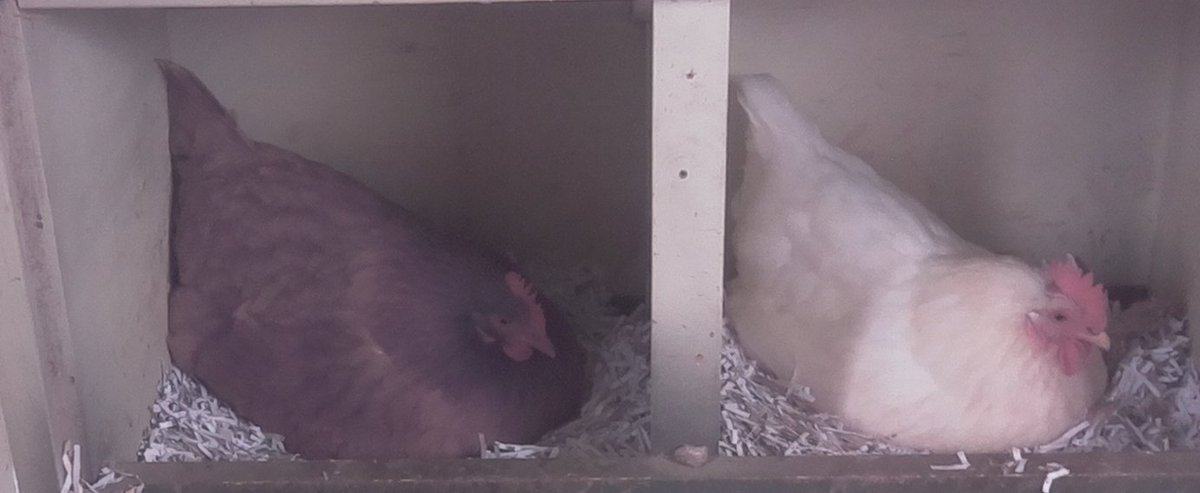hen: (149, 51, 598, 460), (730, 64, 1122, 450)
